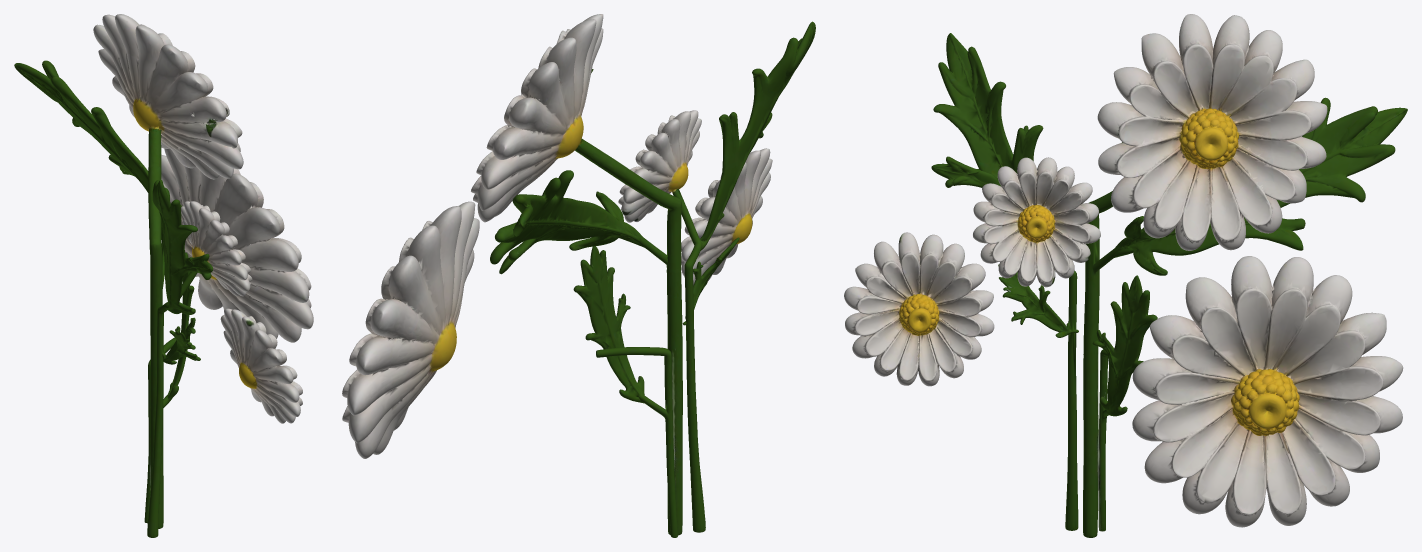
File: mei-daisy.glb
The picture shows the model from 3 angles, left to right: view 1: azimuth 30°, elevation 25°; view 2: azimuth 150°, elevation 25°; view 3: azimuth 270°, elevation 25°; orthographic projection. The views are drawn at different scales.
Parts seen in each view (by area): view 1: tripo_node_b908e423-063b-40dc-86cf-347d86530458; view 2: tripo_node_b908e423-063b-40dc-86cf-347d86530458; view 3: tripo_node_b908e423-063b-40dc-86cf-347d86530458.
Part boxes in pixels (x1=…): tripo_node_b908e423-063b-40dc-86cf-347d86530458: x1=14, y1=14, x2=313, y2=537; tripo_node_b908e423-063b-40dc-86cf-347d86530458: x1=342, y1=14, x2=815, y2=537; tripo_node_b908e423-063b-40dc-86cf-347d86530458: x1=844, y1=14, x2=1407, y2=537.
Size of the model in its own units: 0.5547 by 0.9778 by 0.931.
1 material, 1 textured.
